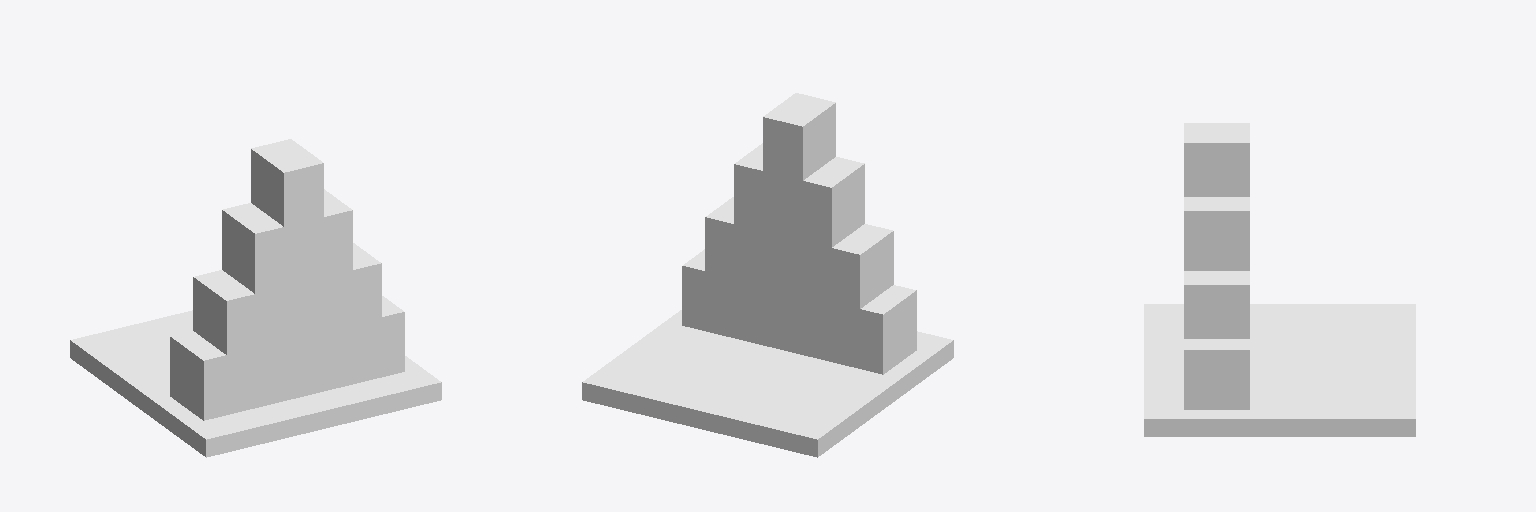
File: pincho_02.obj
The picture shows the model from 3 angles: view 1: azimuth 30°, elevation 25°; view 2: azimuth 150°, elevation 25°; view 3: azimuth 270°, elevation 25°; orthographic projection.
Visible parts, largest first — view 1: object 1; view 2: object 1; view 3: object 1.
Part boxes in pixels (bbox=[...]): object 1: bbox=[70, 139, 441, 457]; object 1: bbox=[582, 93, 953, 457]; object 1: bbox=[1144, 123, 1415, 436].
Bounding box in the file's own units: 4.1 × 4.1 × 4.1.